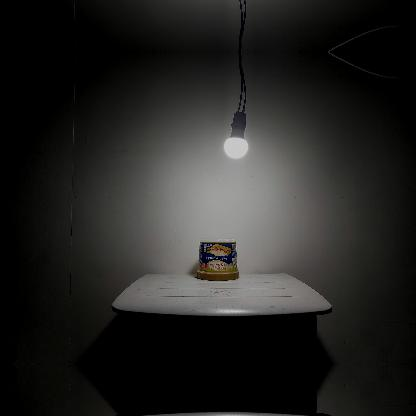Lady-s-Choice: (197, 237, 240, 281)
